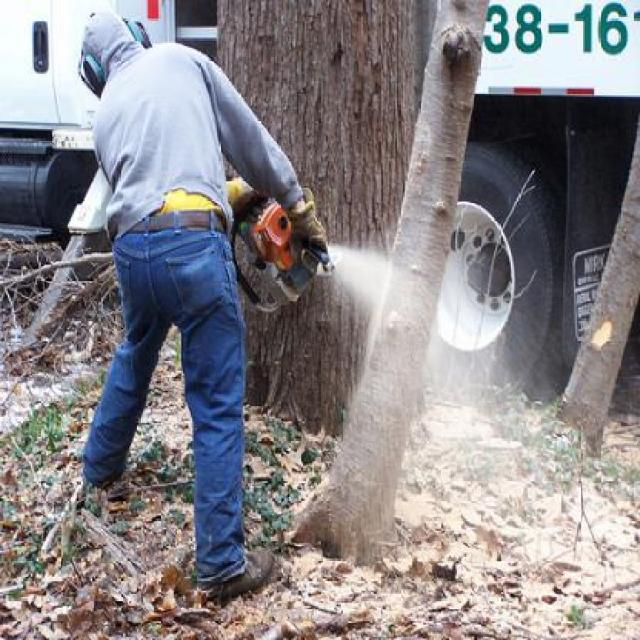Chainsaw: (224, 170, 348, 318)
